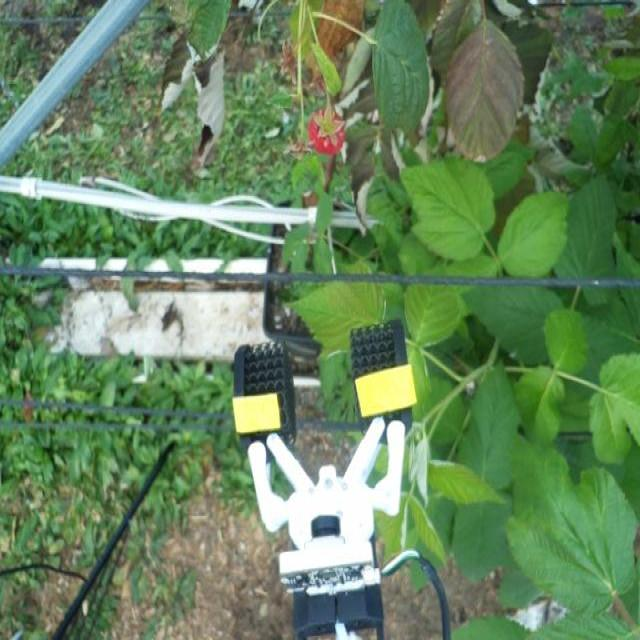Riped berries: (305, 104, 347, 157)
